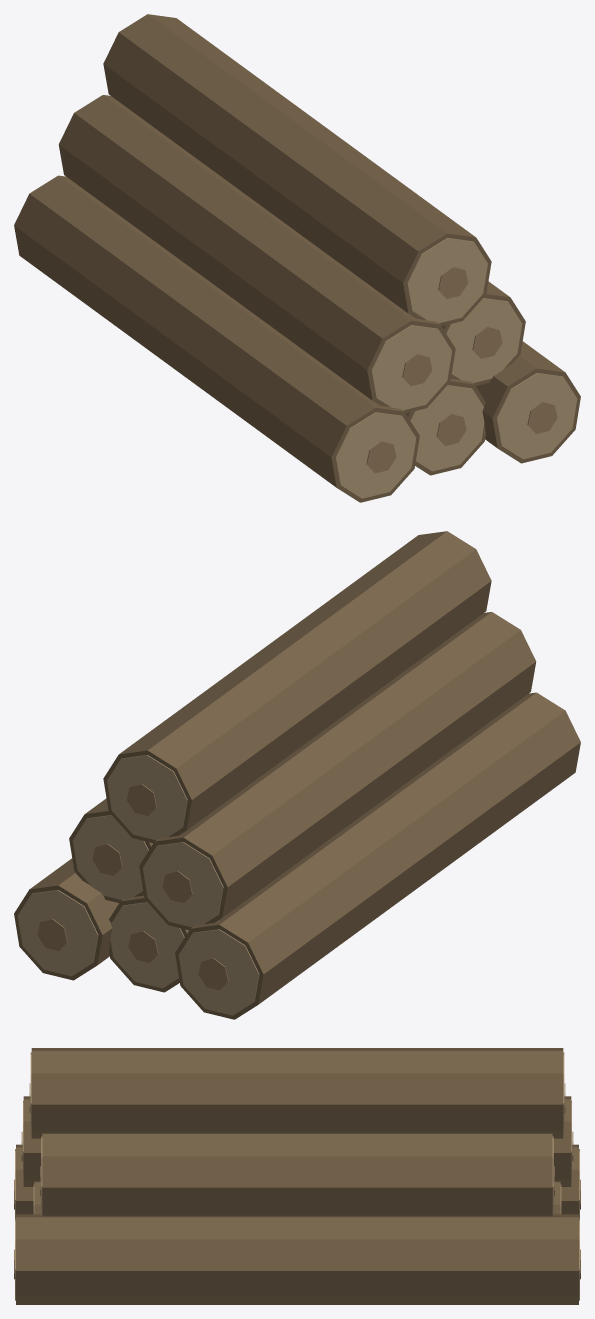
Rendered from timber_pile.glb.
3 renders of one model, top to bottom at view 1: azimuth 30°, elevation 25°; view 2: azimuth 150°, elevation 25°; view 3: azimuth 270°, elevation 25°, orthographic. The views are drawn at different scales.
Visible parts, largest first — view 1: timber_pile_oak_dark, timber_pile_oak_light, timber_pile_oak; view 2: timber_pile_oak_dark, timber_pile_oak_light, timber_pile_oak; view 3: timber_pile_oak_dark, timber_pile_oak_light, timber_pile_oak.
Part boxes in pixels (x1,y1,x2,y2): timber_pile_oak_dark: (14, 14, 580, 502); timber_pile_oak_light: (335, 238, 577, 498); timber_pile_oak: (366, 267, 557, 473); timber_pile_oak_dark: (14, 531, 580, 1019); timber_pile_oak_light: (17, 755, 259, 1015); timber_pile_oak: (37, 784, 228, 990); timber_pile_oak_dark: (16, 1048, 578, 1304); timber_pile_oak_light: (15, 1052, 579, 1300); timber_pile_oak: (14, 1083, 580, 1279).
Bounding box in the file's own units: 0.8991 × 0.8242 × 1.99.
